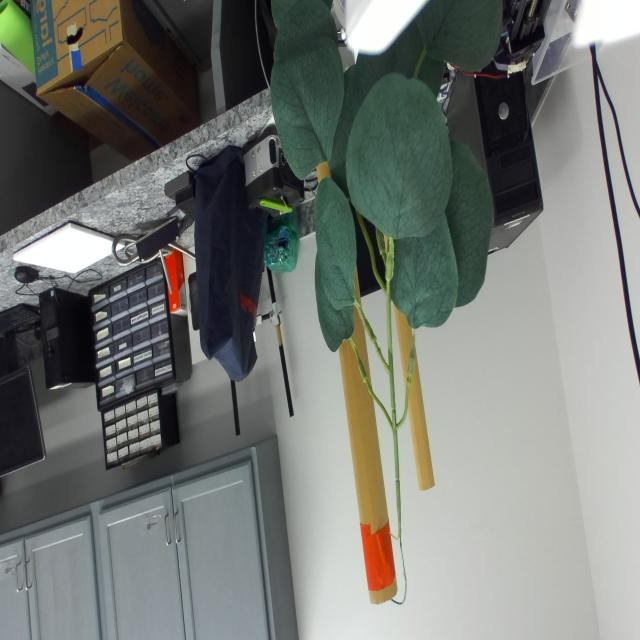Fruit-Stem-Detection: (349, 338, 391, 424), (354, 299, 389, 374), (386, 239, 396, 416), (392, 430, 401, 546), (403, 329, 415, 416)
